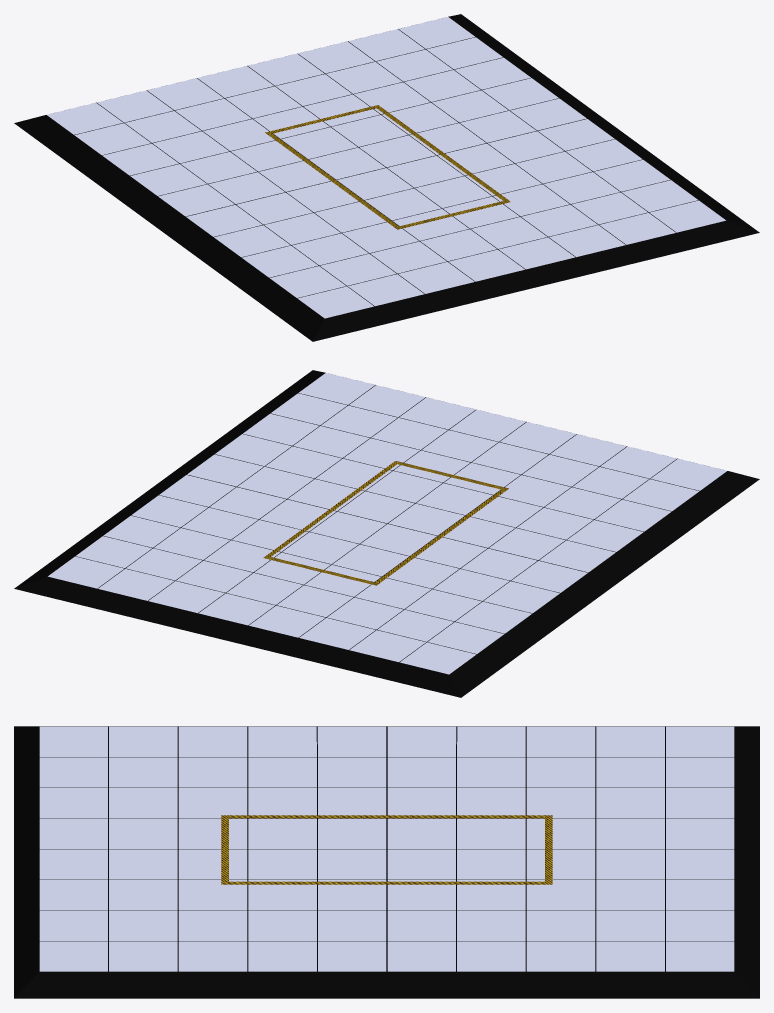
The model's file is emergency_parking_lot.glb.
3 renders of one model, top to bottom at view 1: azimuth 30°, elevation 25°; view 2: azimuth 150°, elevation 25°; view 3: azimuth 270°, elevation 25°, orthographic. The views are drawn at different scales.
Parts seen in each view (by area): view 1: Cube.001_1, Cube.004_0; view 2: Cube.001_1, Cube.004_0; view 3: Cube.001_1, Cube.004_0.
Boxes of the visible parts, bbox=[...] form: Cube.001_1: bbox=[14, 14, 759, 341]; Cube.004_0: bbox=[265, 105, 510, 229]; Cube.001_1: bbox=[14, 370, 759, 697]; Cube.004_0: bbox=[263, 461, 508, 585]; Cube.001_1: bbox=[14, 726, 759, 998]; Cube.004_0: bbox=[221, 815, 552, 884].
Size of the model in its own units: 8.63 by 0.1928 by 9.99.
3 materials, 1 textured.
